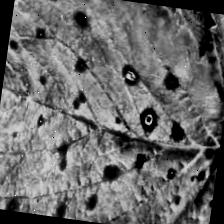Leaf Spot: (0, 0, 224, 224), (123, 139, 218, 224), (181, 11, 224, 168), (103, 0, 217, 52)
